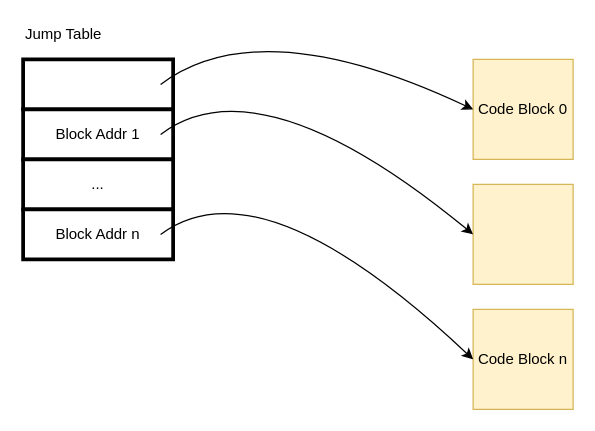
The diagram is 595 pixels wide and 431 high, and some of its shapes have lost their labels. Here are the shapes that lost their labels. From the top down, the centre of each, then its label:
pixel 97 84: Block Addr 0
pixel 522 233: Code Block 1
